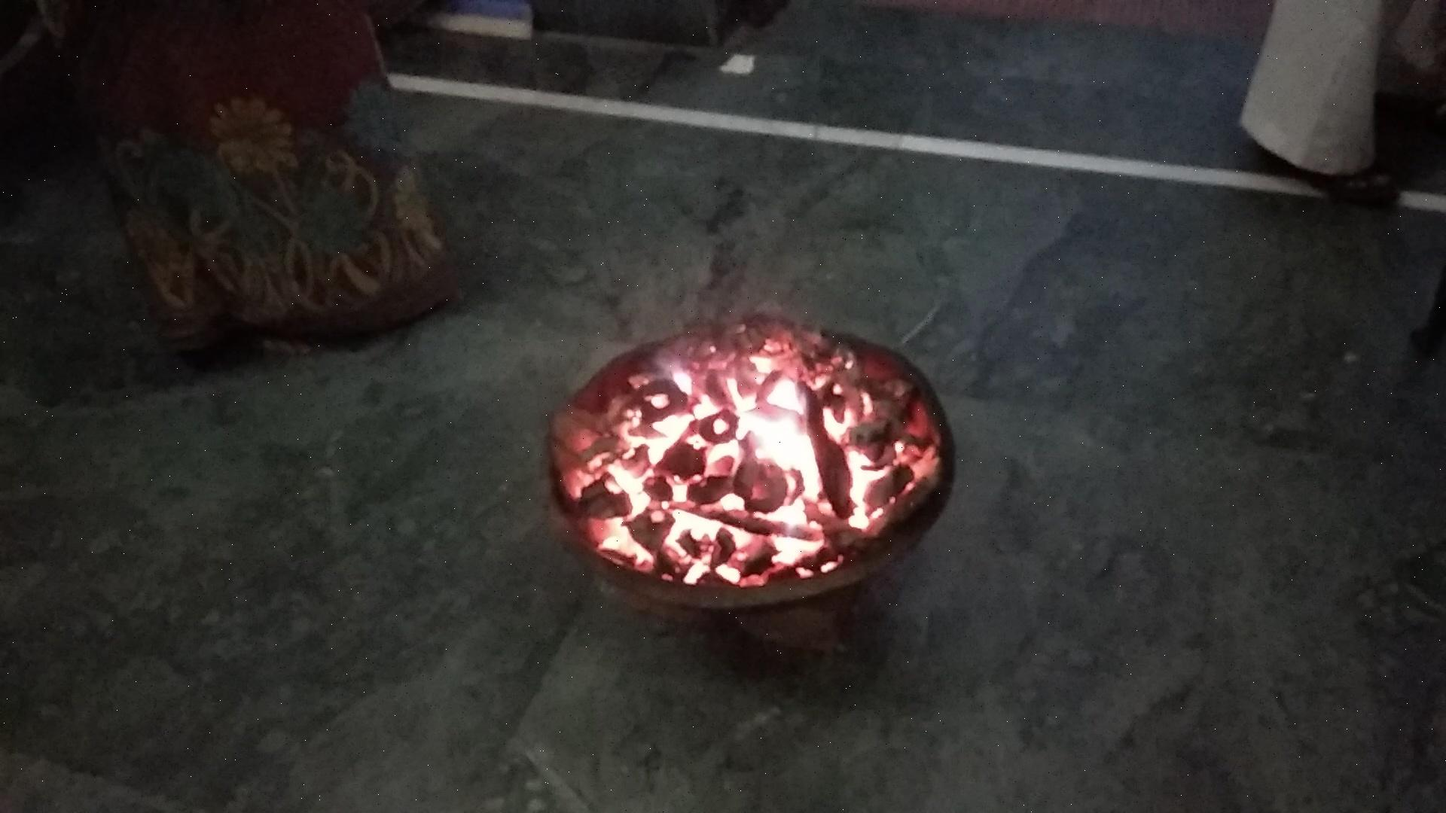fire: (560, 307, 926, 592)
